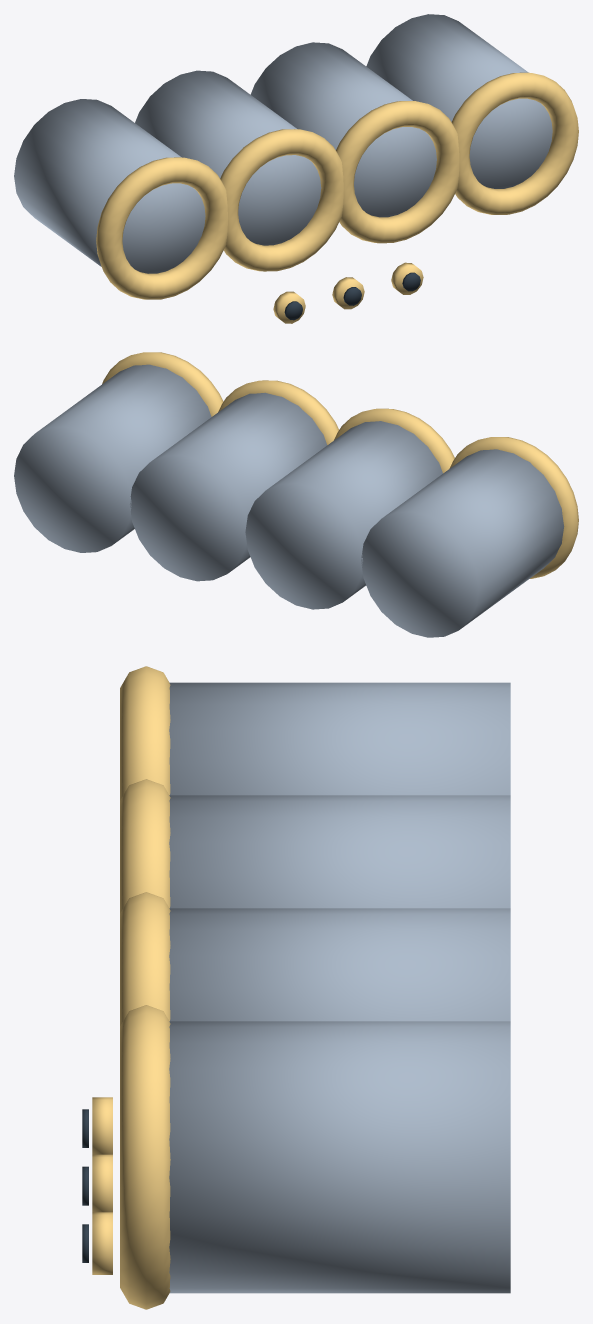
Rendered from 46_L90_ThrusterGimbalActuatorBank.glb.
The picture shows the model from 3 angles, top to bottom: view 1: azimuth 30°, elevation 25°; view 2: azimuth 150°, elevation 25°; view 3: azimuth 270°, elevation 25°; orthographic projection. The views are drawn at different scales.
Parts seen in each view (by area): view 1: L90_ThrusterGimbalActuatorBan_Part_0000, L90_ThrusterGimbalActuatorBan_Part_0001, L90_ThrusterGimbalActuatorBan_Part_0004, L90_ThrusterGimbalActuatorBan_Part_0002, L90_ThrusterGimbalActuatorBan_Part_0006; view 2: L90_ThrusterGimbalActuatorBan_Part_0000, L90_ThrusterGimbalActuatorBan_Part_0001; view 3: L90_ThrusterGimbalActuatorBan_Part_0000, L90_ThrusterGimbalActuatorBan_Part_0001, L90_ThrusterGimbalActuatorBan_Part_0006, L90_ThrusterGimbalActuatorBan_Part_0004, L90_ThrusterGimbalActuatorBan_Part_0002.
Boxes of the visible parts, left/top/right/bottom form: L90_ThrusterGimbalActuatorBan_Part_0000: left=14, top=14, right=552, bottom=273; L90_ThrusterGimbalActuatorBan_Part_0001: left=96, top=72, right=578, bottom=299; L90_ThrusterGimbalActuatorBan_Part_0004: left=332, top=277, right=364, bottom=309; L90_ThrusterGimbalActuatorBan_Part_0002: left=273, top=291, right=305, bottom=323; L90_ThrusterGimbalActuatorBan_Part_0006: left=391, top=262, right=423, bottom=294; L90_ThrusterGimbalActuatorBan_Part_0000: left=14, top=364, right=564, bottom=637; L90_ThrusterGimbalActuatorBan_Part_0001: left=102, top=352, right=578, bottom=578; L90_ThrusterGimbalActuatorBan_Part_0000: left=169, top=682, right=510, bottom=1293; L90_ThrusterGimbalActuatorBan_Part_0001: left=120, top=666, right=170, bottom=1309; L90_ThrusterGimbalActuatorBan_Part_0006: left=92, top=1212, right=112, bottom=1274; L90_ThrusterGimbalActuatorBan_Part_0004: left=92, top=1154, right=112, bottom=1212; L90_ThrusterGimbalActuatorBan_Part_0002: left=92, top=1097, right=112, bottom=1154.
Bounding box in the file's own units: 2.28 × 0.8283 × 0.882.
